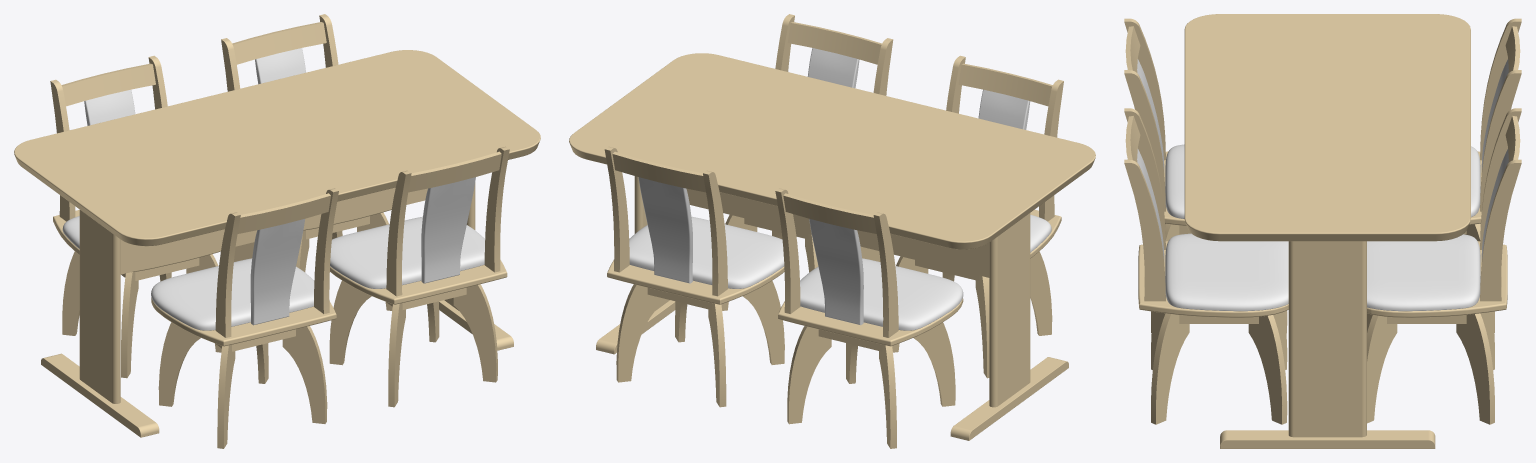
Rendered from 529_ダイニングテーブルセット4人掛け.glb.
The picture shows the model from 3 angles, left to right: view 1: azimuth 30°, elevation 25°; view 2: azimuth 150°, elevation 25°; view 3: azimuth 270°, elevation 25°; orthographic projection. The views are drawn at different scales.
Parts seen in each view (by area): view 1: Body, chair.003, chair.002, chair, chair.001; view 2: Body, chair, chair.001, chair.003, chair.002; view 3: Body, chair.002, chair.001, chair.003, chair.
Part boxes in pixels (<box>): Body: <box>14,50,540,437</box>; chair.003: <box>151,188,338,448</box>; chair.002: <box>329,146,509,407</box>; chair: <box>50,55,221,378</box>; chair.001: <box>221,14,392,310</box>; Body: <box>569,53,1095,440</box>; chair: <box>775,188,963,448</box>; chair.001: <box>604,146,784,407</box>; chair.003: <box>892,55,1063,378</box>; chair.002: <box>721,14,893,310</box>; Body: <box>1184,14,1470,448</box>; chair.002: <box>1124,108,1288,424</box>; chair.001: <box>1367,108,1521,424</box>; chair.003: <box>1124,18,1287,332</box>; chair: <box>1463,18,1521,332</box>.
Size of the model in its own units: 1.45 by 0.8011 by 1.11.
